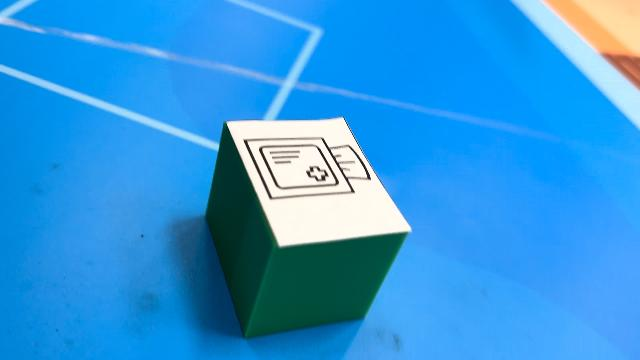napkin: (204, 114, 412, 340)
